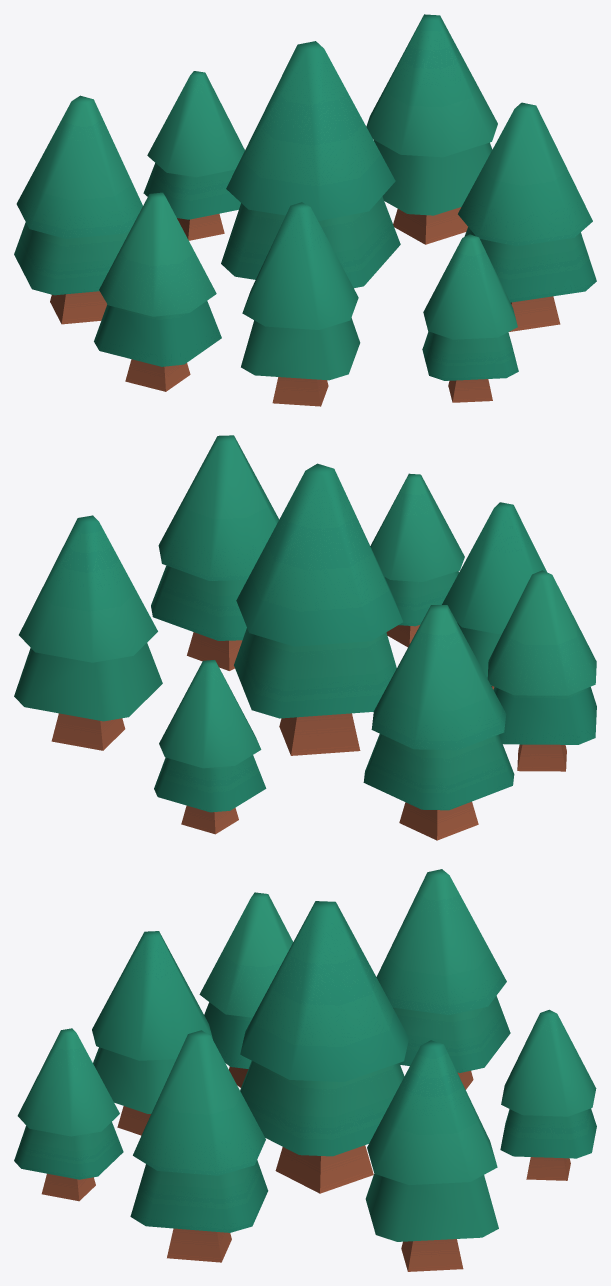
Rendered from flat_heavy_forest.glb.
The picture shows the model from 3 angles, top to bottom: view 1: azimuth 30°, elevation 25°; view 2: azimuth 150°, elevation 25°; view 3: azimuth 270°, elevation 25°; orthographic projection. The views are drawn at different scales.
Parts seen in each view (by area): view 1: grass-forest; view 2: grass-forest; view 3: grass-forest.
Part boxes in pixels (<box>): grass-forest: <box>14,14,596,406</box>; grass-forest: <box>14,435,596,840</box>; grass-forest: <box>14,869,596,1271</box>.
Bounding box in the file's own units: 0.8893 × 0.475 × 0.9391.
1 material, 1 textured.
